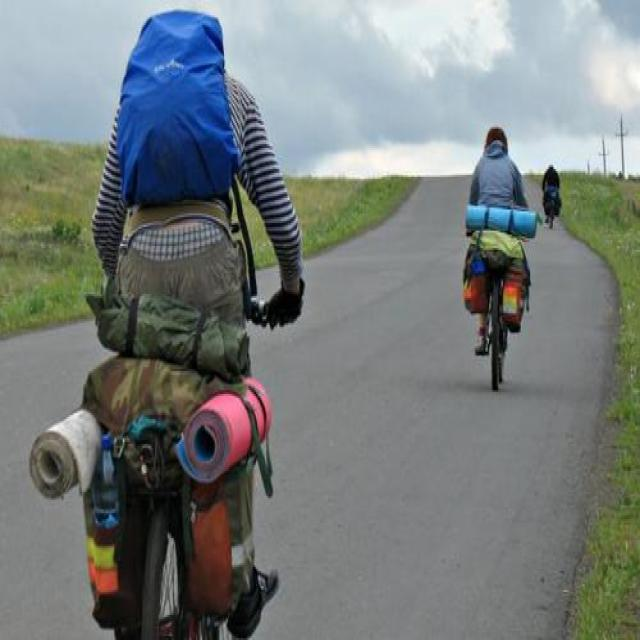bikerider: (50, 8, 276, 634), (446, 98, 524, 394), (536, 156, 564, 232)
